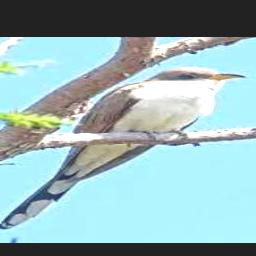Cuckoo: (0, 67, 243, 229)
